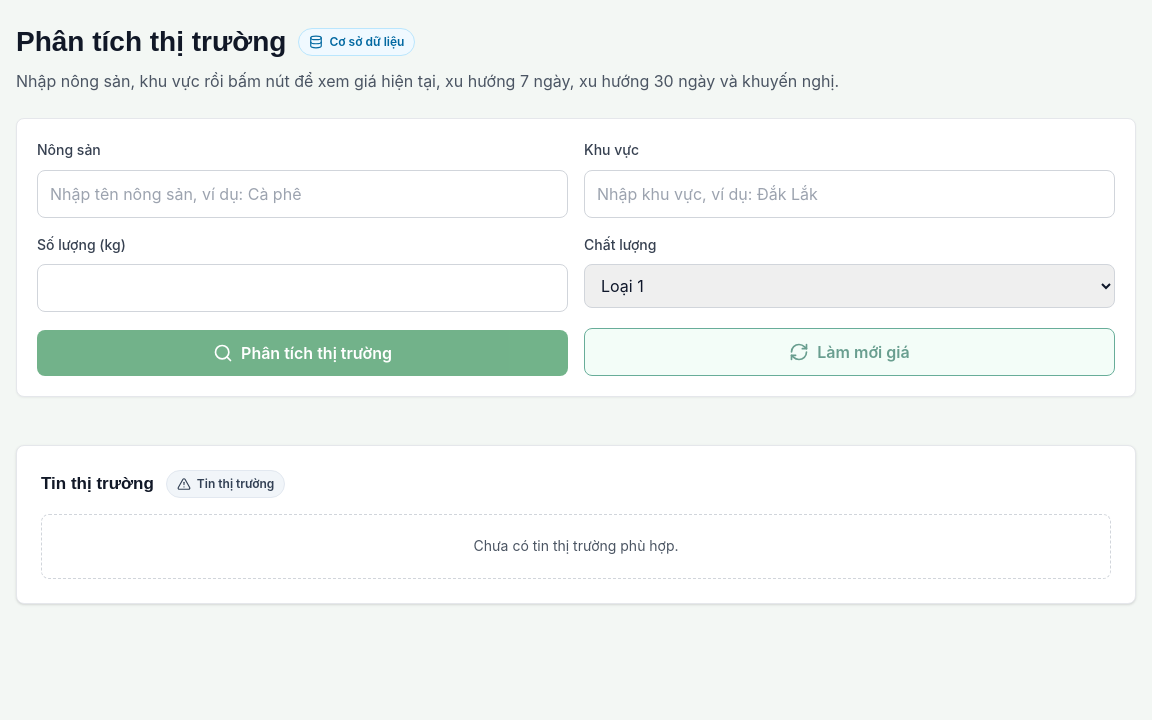
it: market analysis real-data contract › shows the analysis source and update time when backend provides it
Type "Cà phê" into the field labelled "Nông sản" at {"x": 302, "y": 194}, box [37,170,568,218]
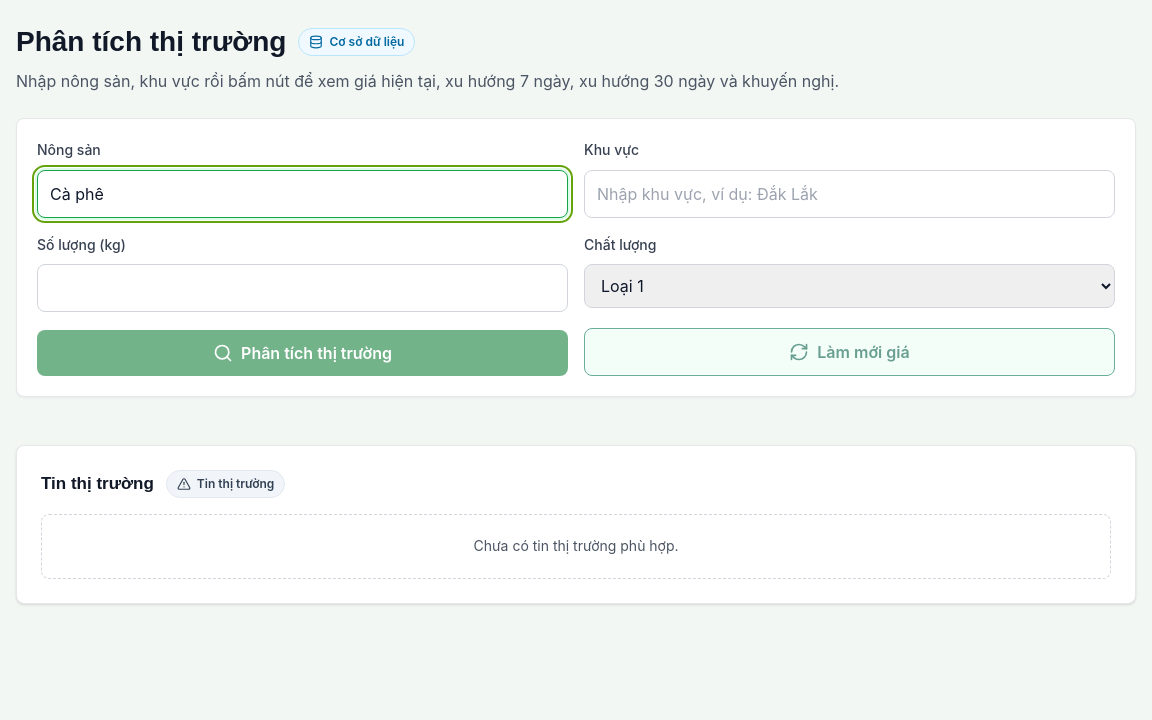
Type "Đắk Lắk" into the field labelled "Khu vực" at {"x": 850, "y": 194}, box [584,170,1115,218]
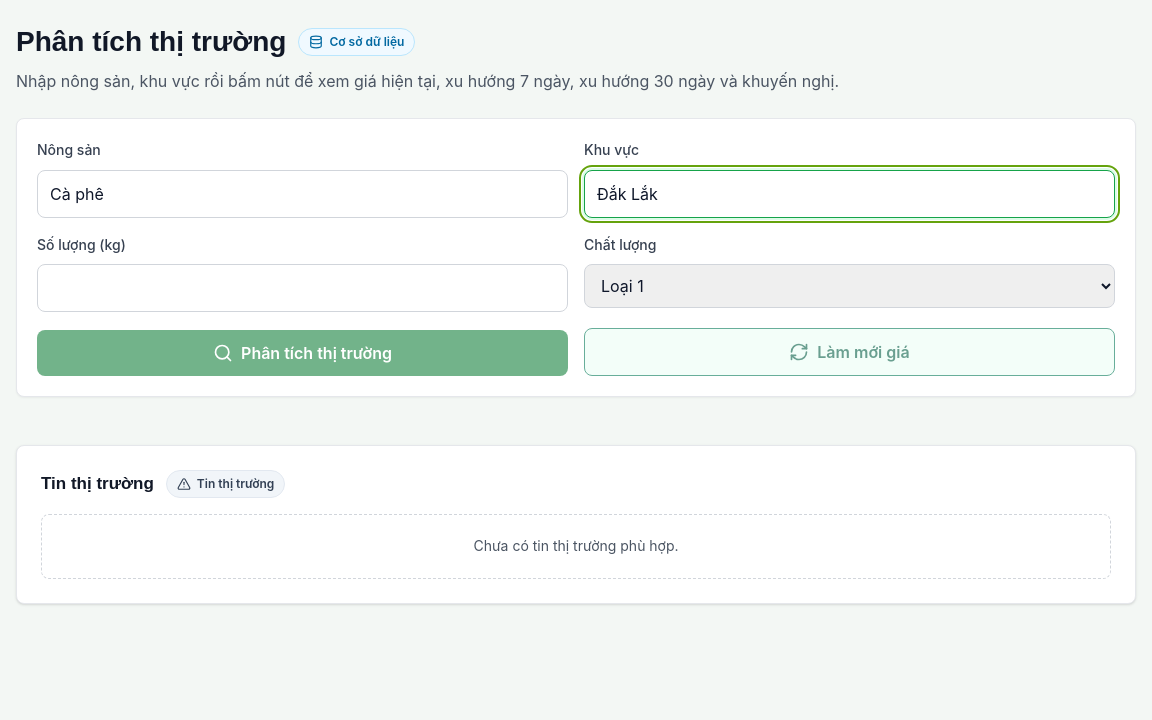
Type "1000" into the number field labelled "Số lượng (kg)" at {"x": 302, "y": 288}, box [37,264,568,312]
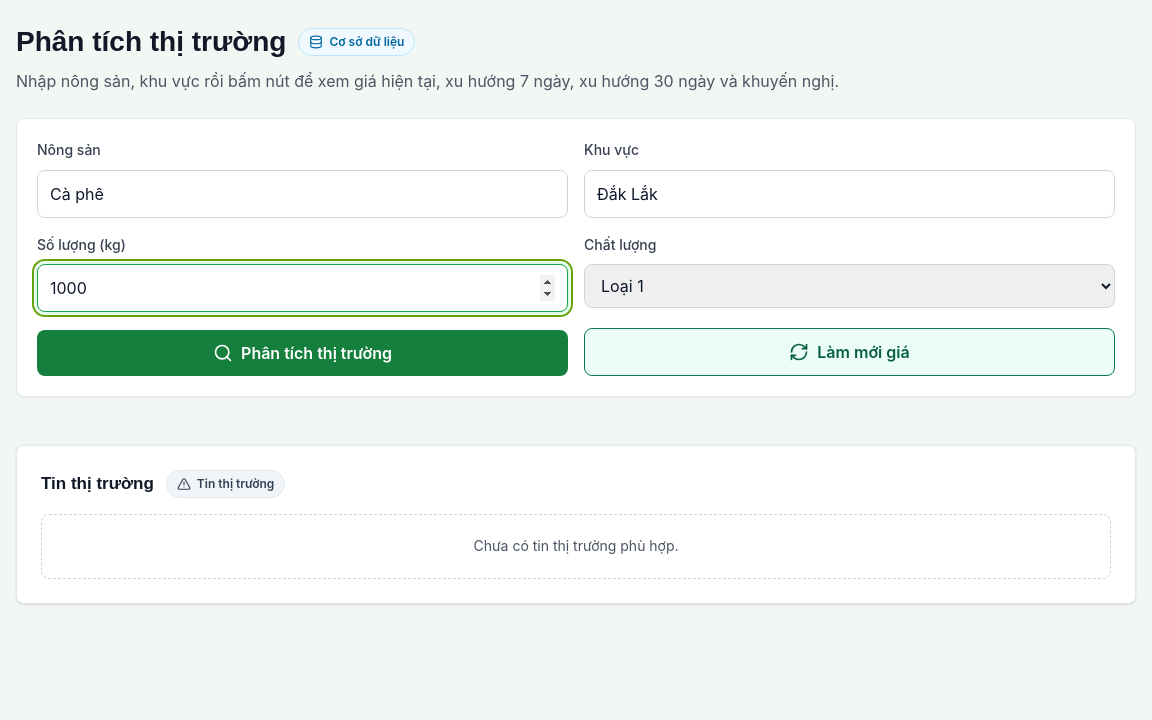
Click the button "Phân tích thị trường" at {"x": 302, "y": 353}, box [37,330,568,376]
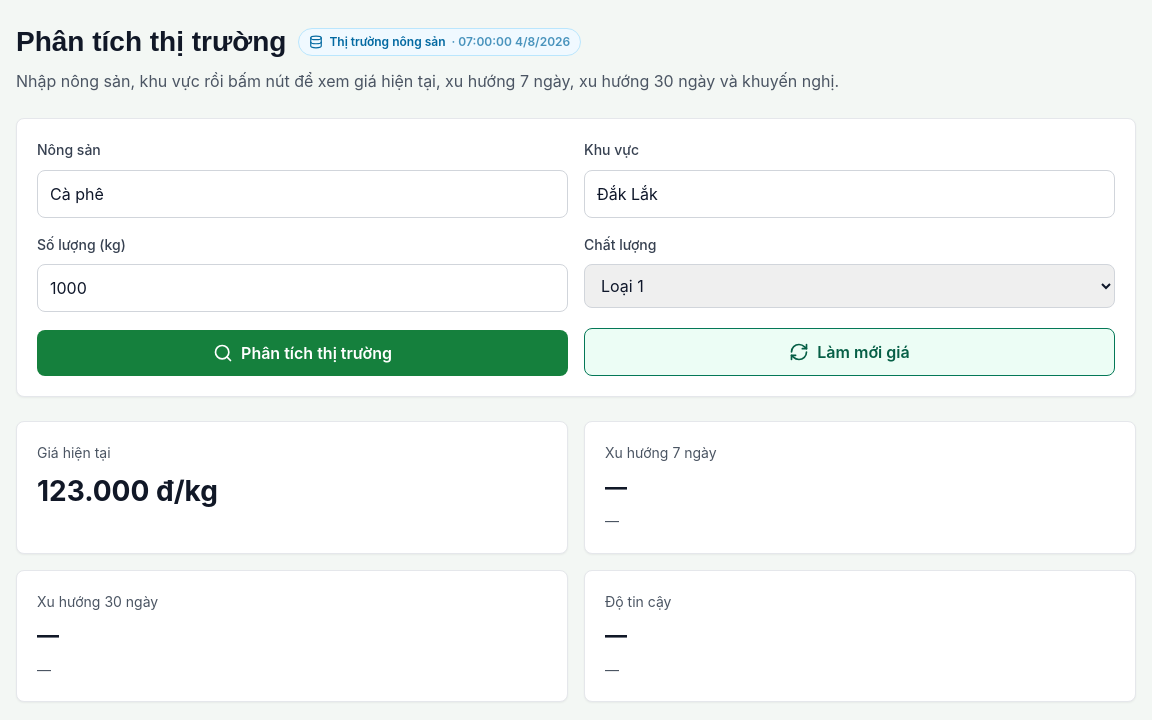
Expected: the text with test id "market-current-price" reads "123.000 đ/kg", [37,474,218,508]
Expected: the text "Thị trường nông sản" is shown, [329,33,446,51]
